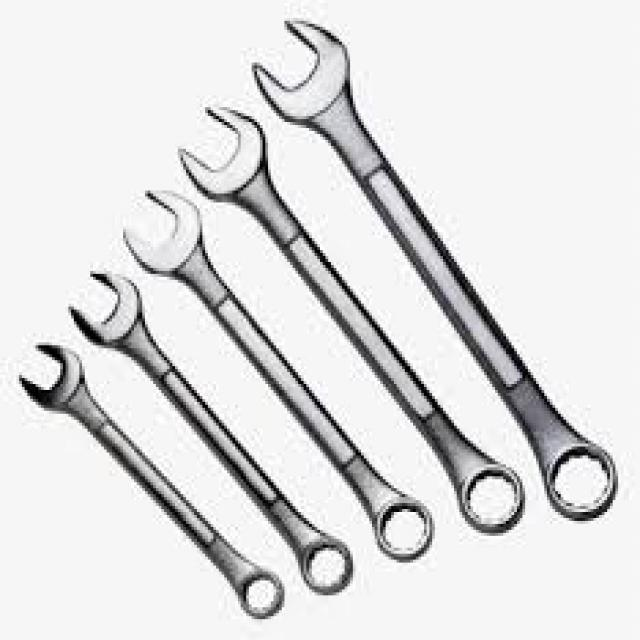wrench: (244, 12, 626, 526), (172, 95, 532, 540), (114, 180, 440, 568), (66, 261, 362, 603), (10, 337, 290, 626)
